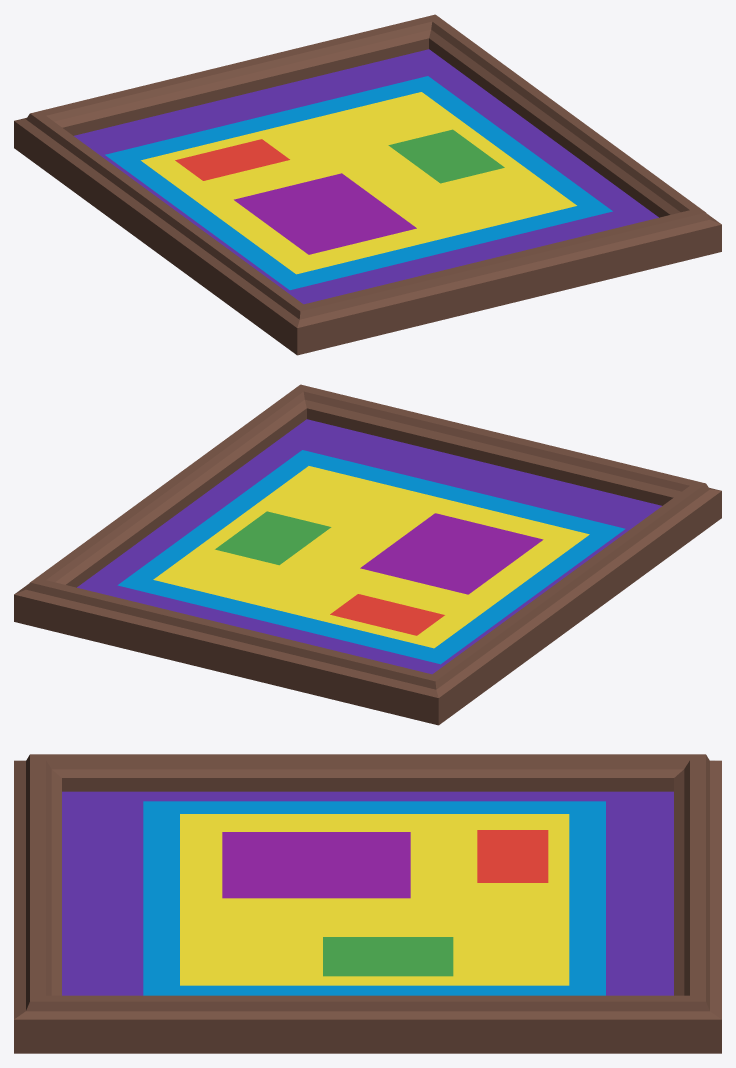
File: crewWallPainting-Dy5epD5X.glb
3 renders of one model, top to bottom at view 1: azimuth 30°, elevation 25°; view 2: azimuth 150°, elevation 25°; view 3: azimuth 270°, elevation 25°, orthographic. The views are drawn at different scales.
Visible parts, largest first — view 1: crewWallPainting:pasted__pCube12 group; view 2: crewWallPainting:pasted__pCube12 group; view 3: crewWallPainting:pasted__pCube12 group.
Part boxes in pixels (box(x1,y1,x2,y2)): crewWallPainting:pasted__pCube12 group: box(14, 14, 721, 355); crewWallPainting:pasted__pCube12 group: box(14, 384, 721, 725); crewWallPainting:pasted__pCube12 group: box(14, 754, 721, 1053).
Size of the model in its own units: 129 by 10.78 by 149.
